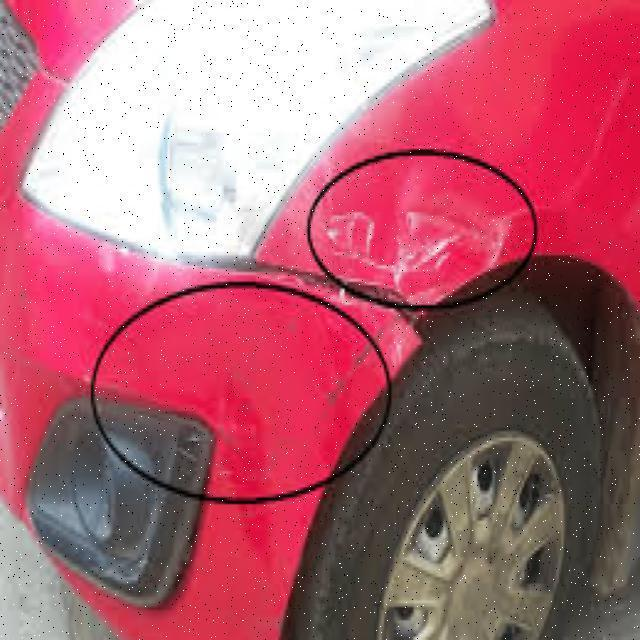fender-dent: (258, 70, 638, 392)
front-bumper-dent: (0, 248, 426, 636)
